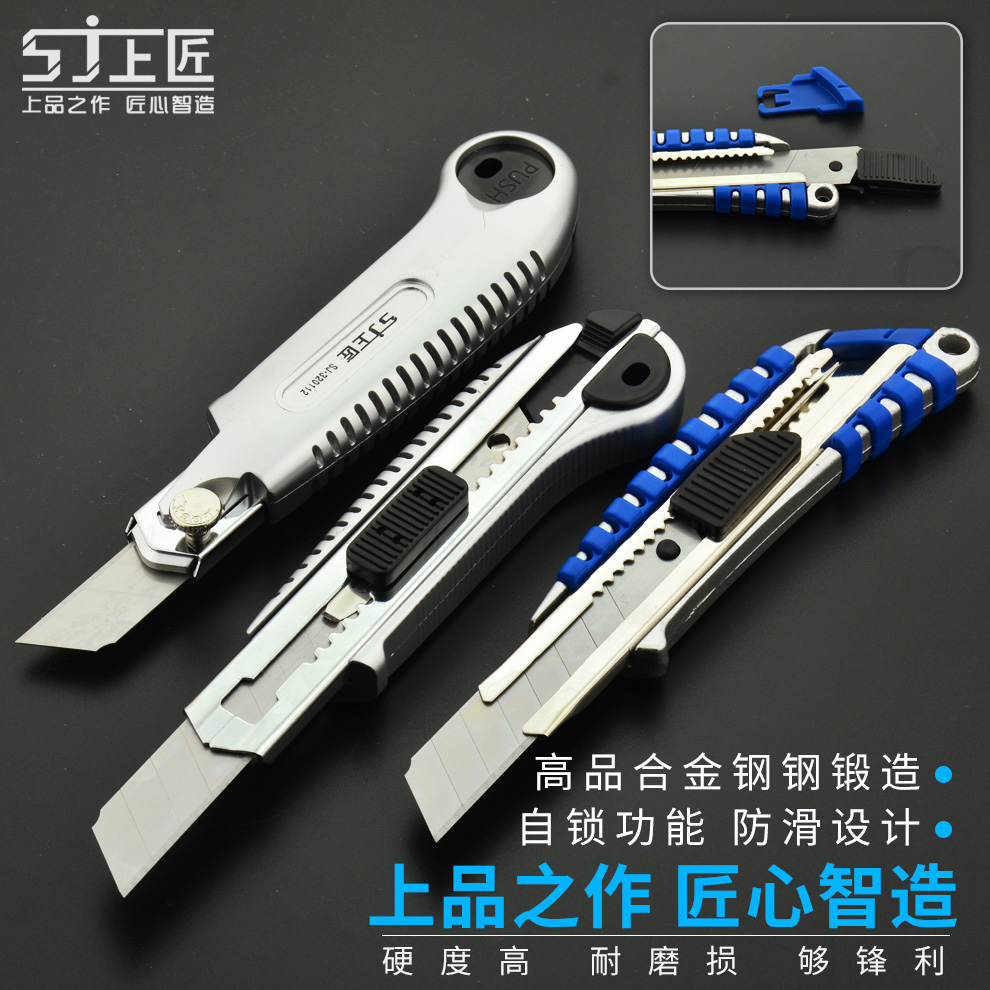cutter: (87, 309, 689, 906), (401, 319, 978, 850), (7, 126, 581, 656), (652, 127, 951, 216)
